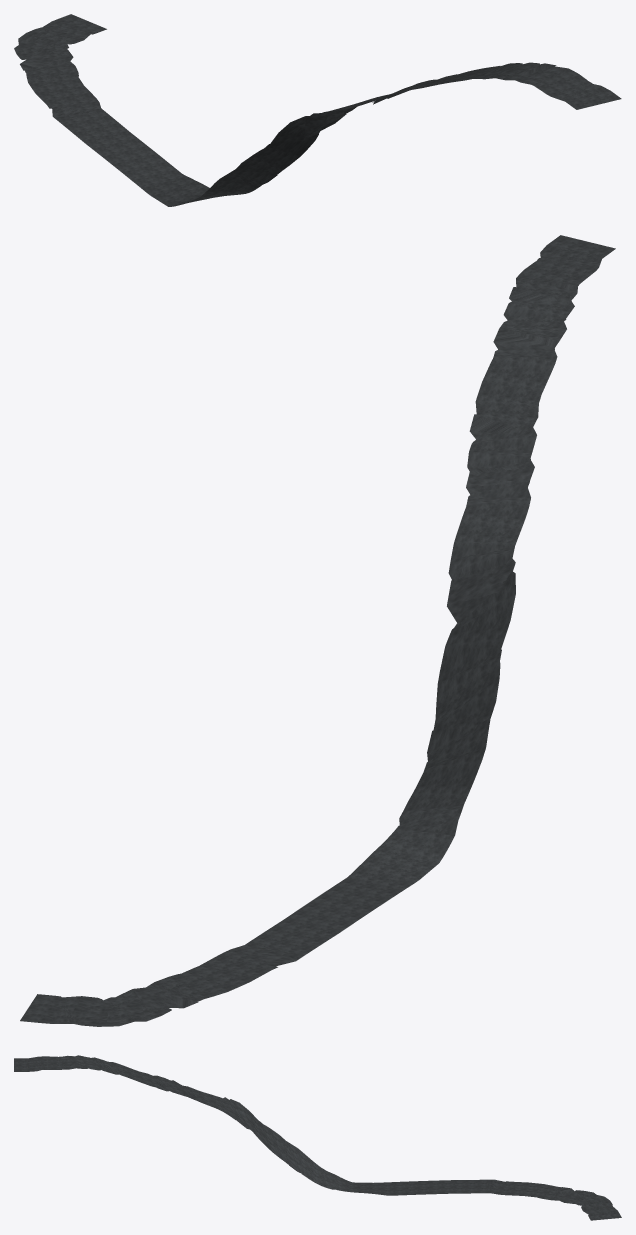
The model's file is RD-ROAD-008.obj.
3 views of the same model, one above another, from view 1: azimuth 30°, elevation 25°; view 2: azimuth 150°, elevation 25°; view 3: azimuth 270°, elevation 25° (orthographic). The views are drawn at different scales.
Parts seen in each view (by area): view 1: RD-ROAD-008; view 2: RD-ROAD-008; view 3: RD-ROAD-008.
Boxes of the visible parts, x1,y1,x2,y2 form: RD-ROAD-008: (14,14,621,206); RD-ROAD-008: (20,235,615,1026); RD-ROAD-008: (14,1055,621,1220).
Size of the model in its own units: 31.44 by 45.15 by 152.
Materials: 1 (1 with a texture image).
